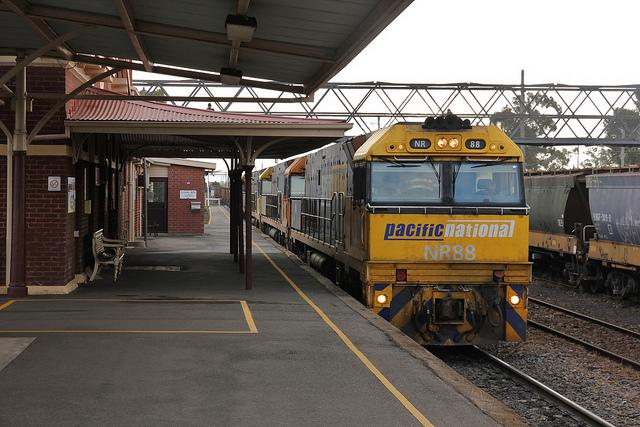Train: (252, 111, 533, 349), (528, 165, 640, 302)
